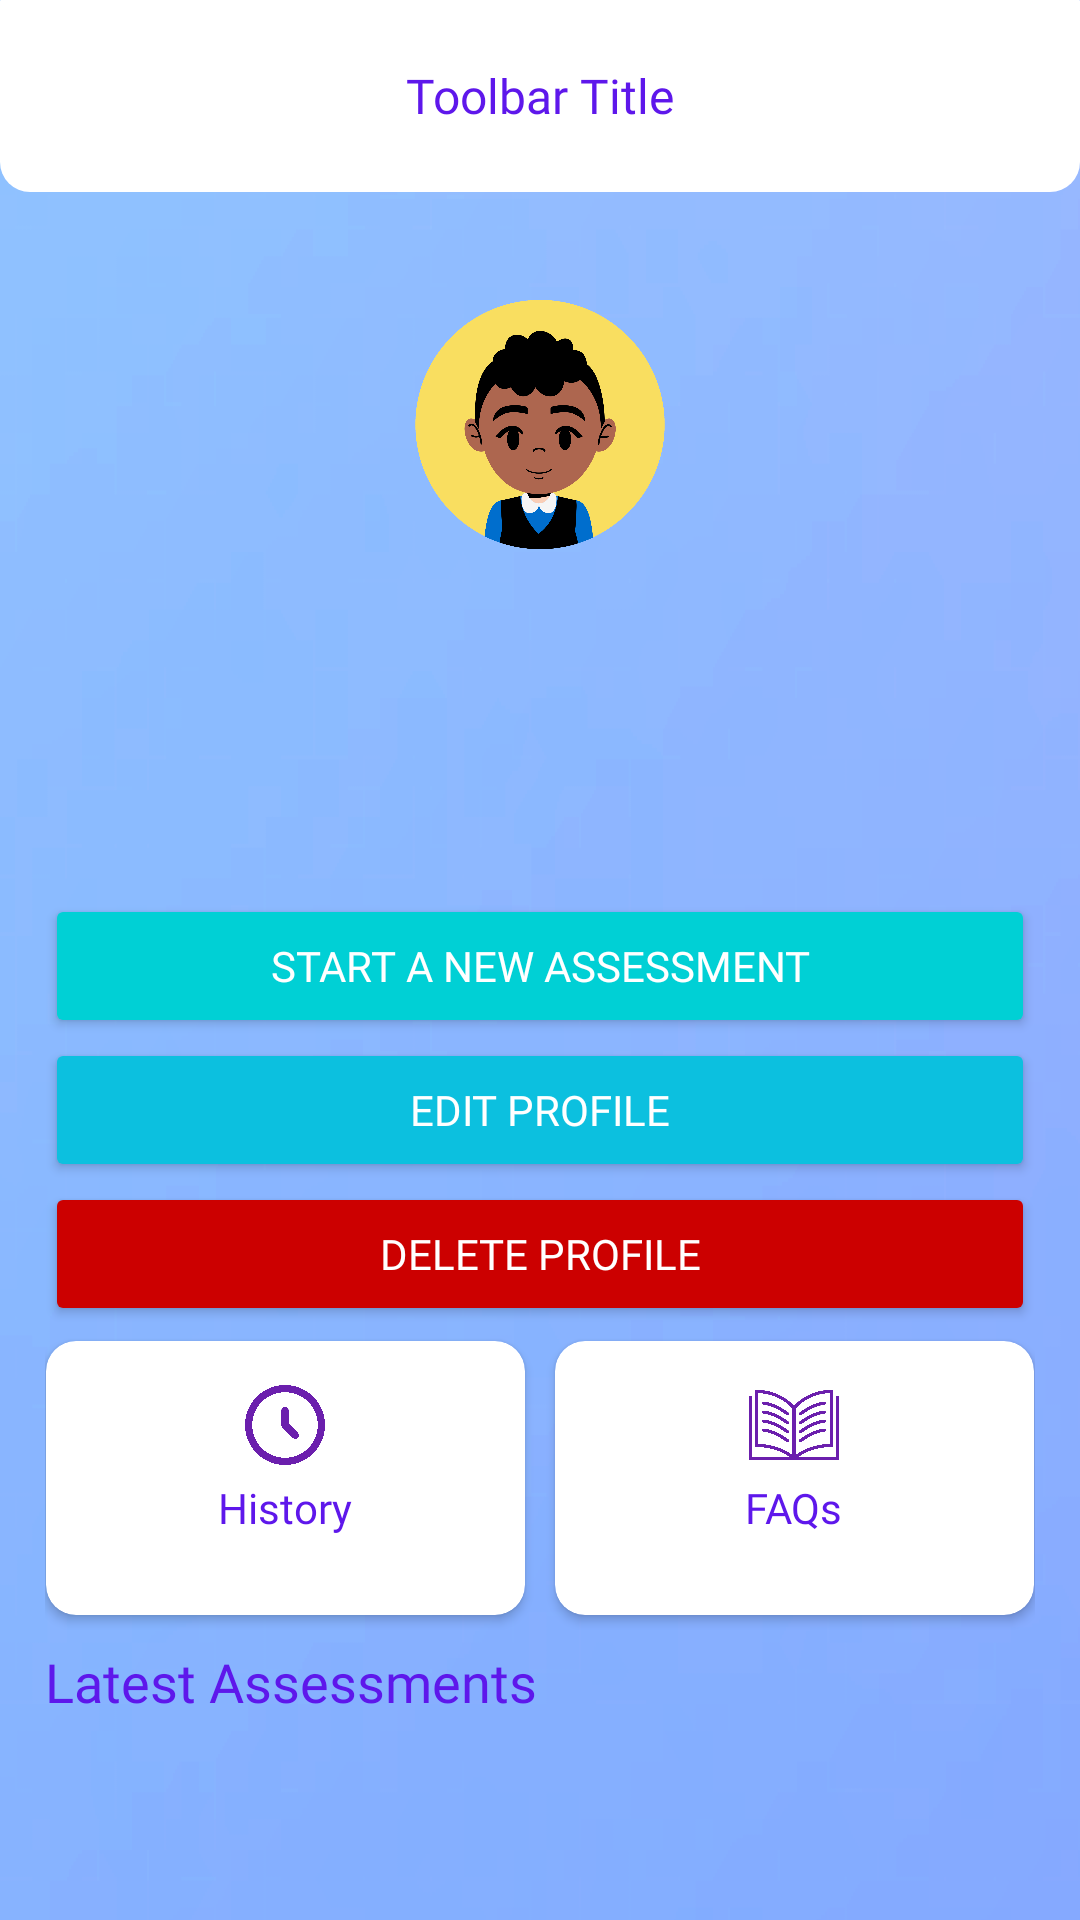

Where icons sit on this 1080 x 1920 app screen, as (x1, y1, x2, y2):
Profile Icon: (415, 300, 665, 549)
